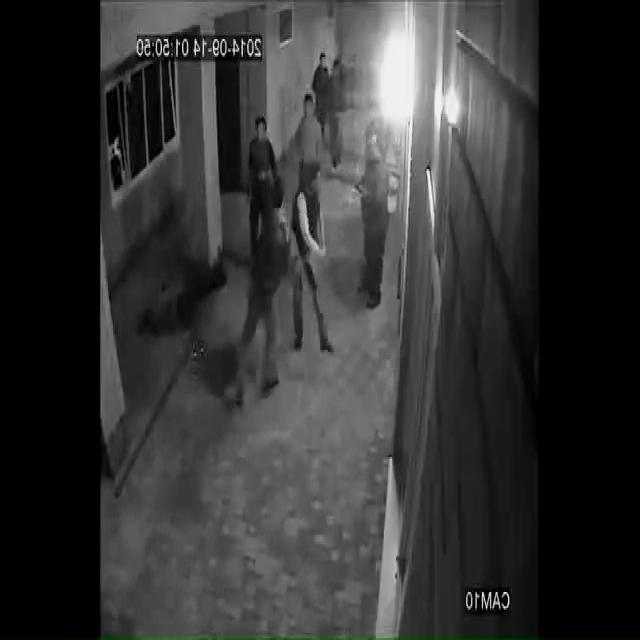fight: (292, 127, 388, 363)
